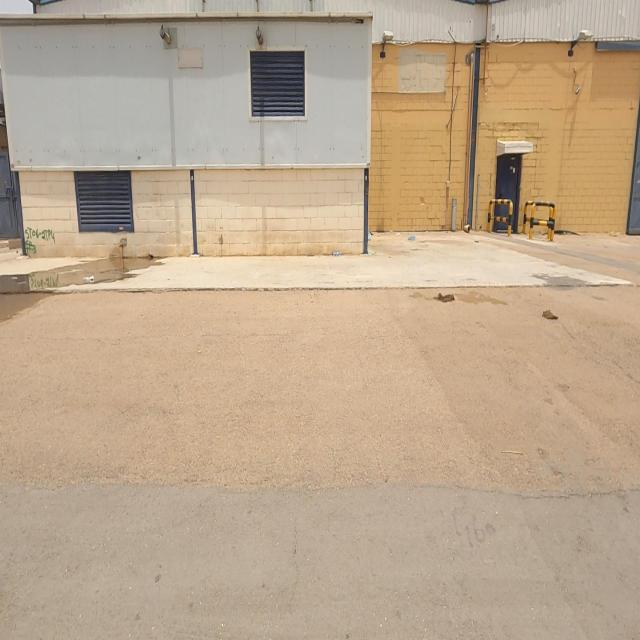Graffiti: (25, 228, 56, 254)
